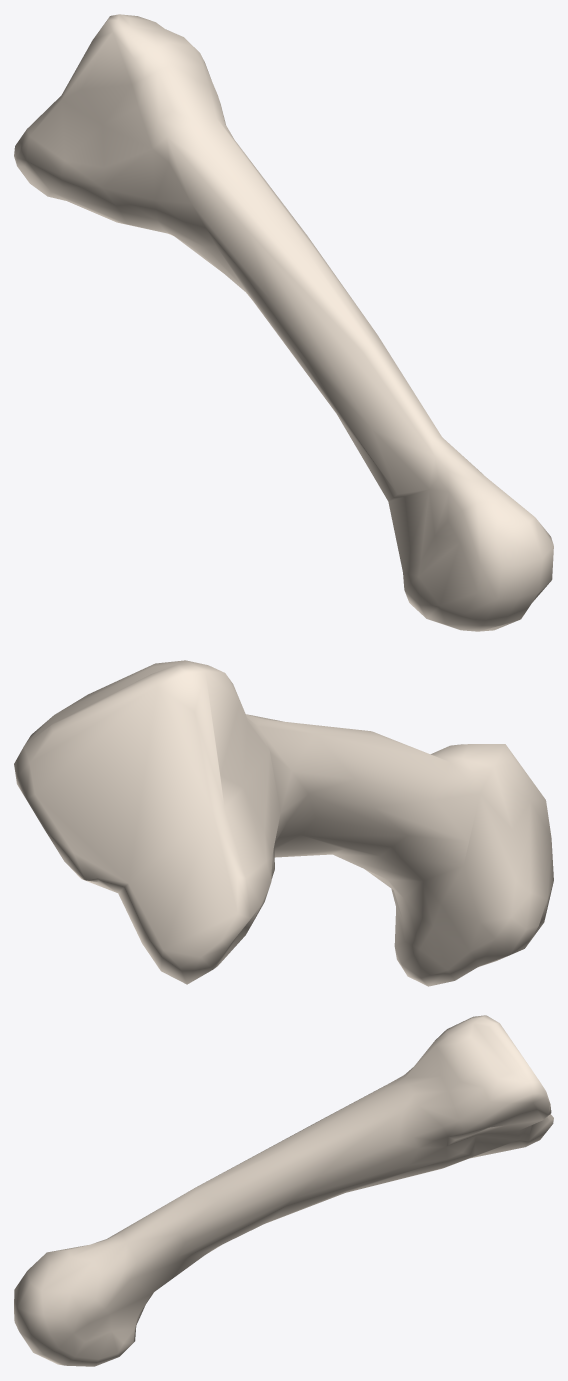
The model's file is left_metatarsal_3.glb.
3 views of the same model, one above another, from view 1: azimuth 30°, elevation 25°; view 2: azimuth 150°, elevation 25°; view 3: azimuth 270°, elevation 25° (orthographic). The views are drawn at different scales.
Visible parts, largest first — view 1: Third metatarsal bone.r; view 2: Third metatarsal bone.r; view 3: Third metatarsal bone.r.
Boxes of the visible parts, x1,y1,x2,y2 form: Third metatarsal bone.r: (14, 14, 553, 631); Third metatarsal bone.r: (14, 660, 553, 986); Third metatarsal bone.r: (14, 1015, 553, 1366).
Size of the model in its own units: 0.0227 by 0.0438 by 0.0672.
